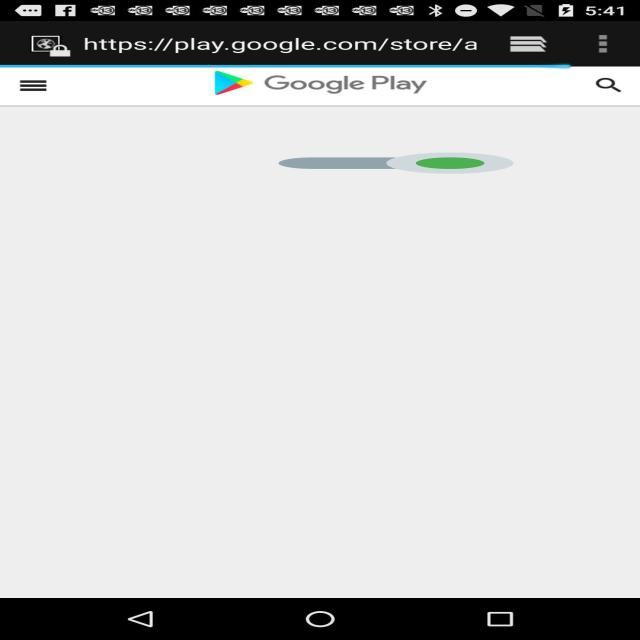social proof: (278, 143, 514, 183)
